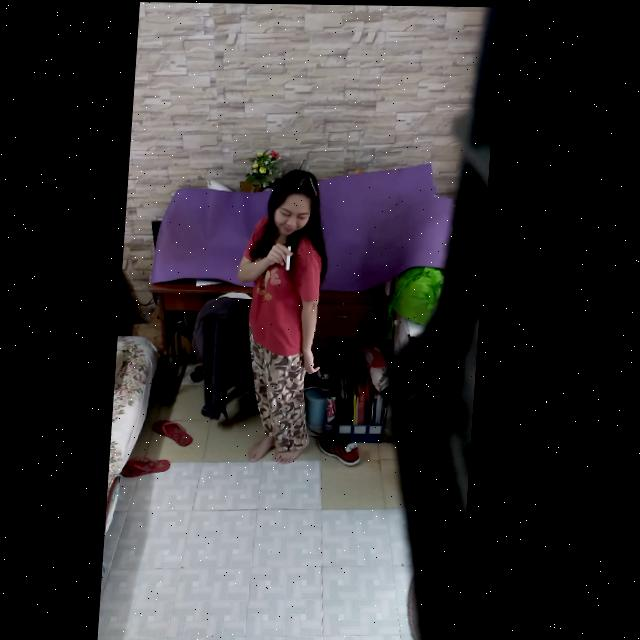cigarette: (290, 246, 294, 270)
